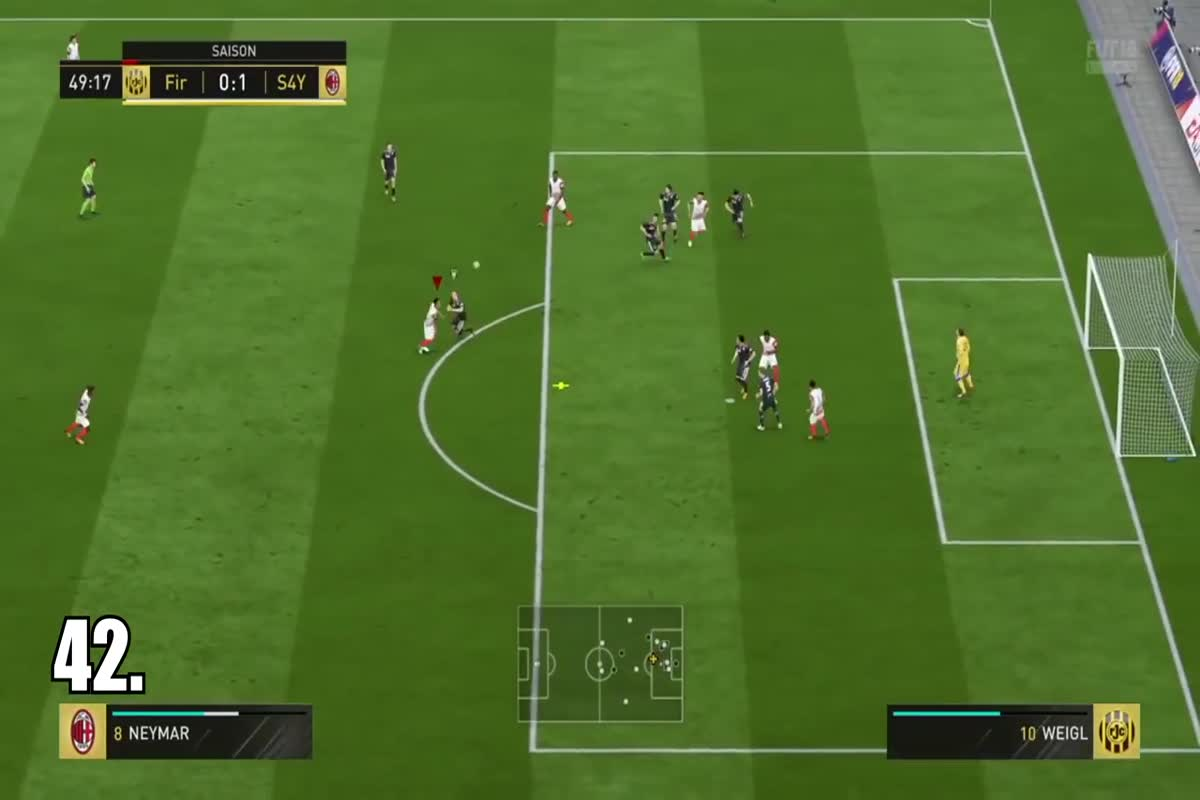ball: (464, 253, 491, 274)
